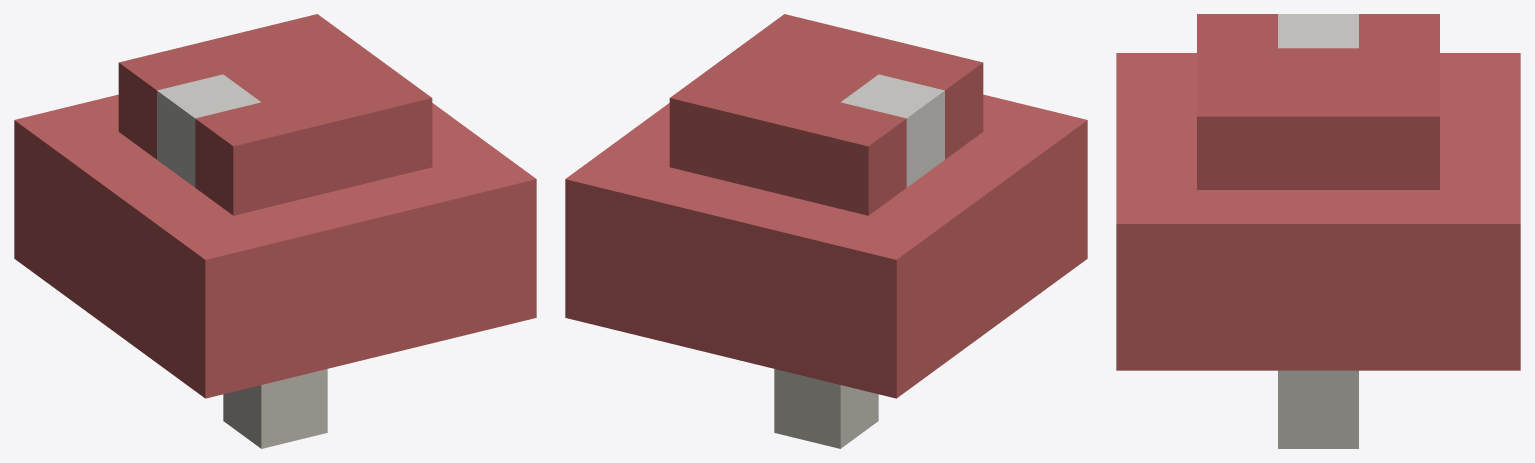
File: amanita_04.glb
3 views of the same model, side by side, from view 1: azimuth 30°, elevation 25°; view 2: azimuth 150°, elevation 25°; view 3: azimuth 270°, elevation 25° (orthographic). The views are drawn at different scales.
Visible parts, largest first — view 1: amanita_04; view 2: amanita_04; view 3: amanita_04.
Part boxes in pixels (left/top/right/bottom): amanita_04: left=14, top=14, right=536, bottom=448; amanita_04: left=565, top=14, right=1087, bottom=448; amanita_04: left=1116, top=14, right=1520, bottom=448.
Size of the model in its own units: 0.5 by 0.5 by 0.5.
